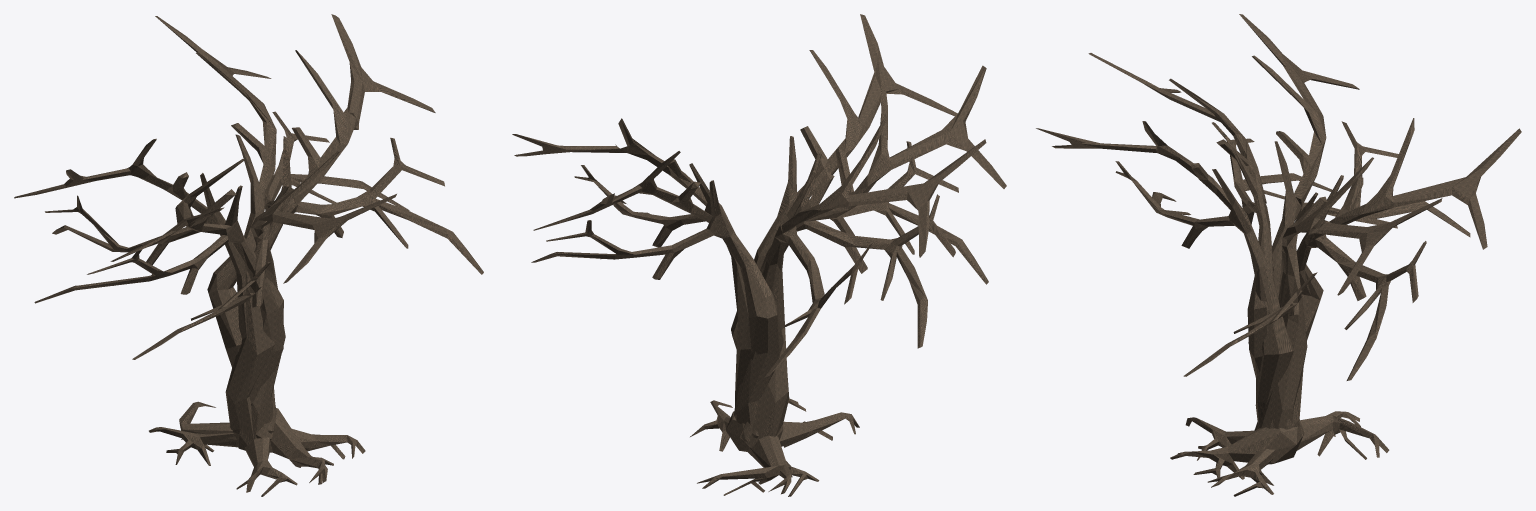
File: dead-tree1.fbx
3 views of the same model, side by side, from view 1: azimuth 30°, elevation 25°; view 2: azimuth 150°, elevation 25°; view 3: azimuth 270°, elevation 25° (orthographic).
Visible parts, largest first — view 1: tree2-low.001; view 2: tree2-low.001; view 3: tree2-low.001.
Part boxes in pixels (bbox=[...]): tree2-low.001: bbox=[14, 14, 483, 496]; tree2-low.001: bbox=[512, 14, 1006, 496]; tree2-low.001: bbox=[1036, 14, 1521, 496].
Size of the model in its own units: 5362 by 4414 by 5459.
Materials: 1 (1 with a texture image).
